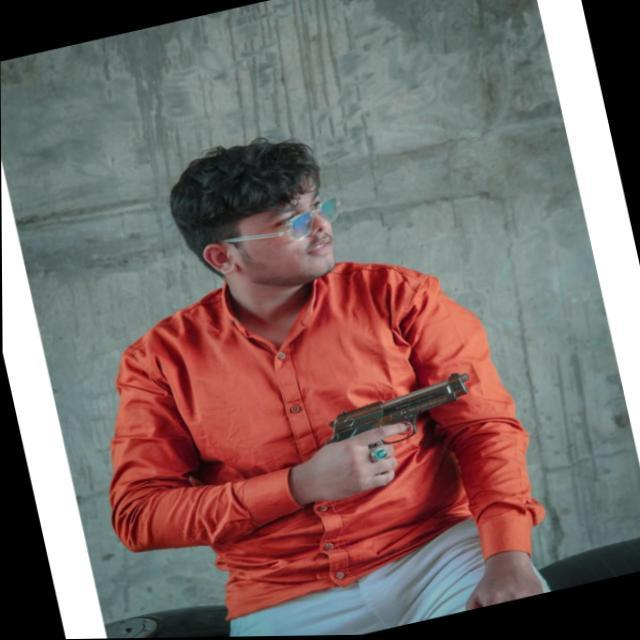weapon: (310, 367, 493, 500)
